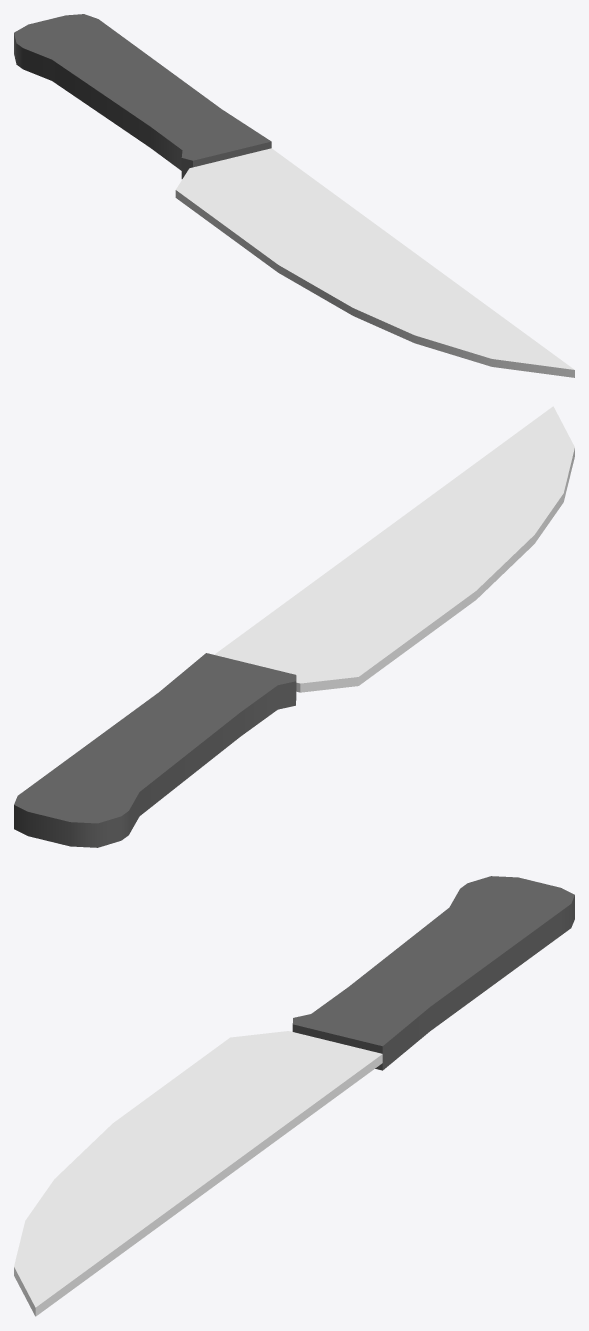
The model's file is Knife_1V.fbx.
The picture shows the model from 3 angles, top to bottom: view 1: azimuth 30°, elevation 25°; view 2: azimuth 150°, elevation 25°; view 3: azimuth 330°, elevation 25°; orthographic projection. The views are drawn at different scales.
Parts seen in each view (by area): view 1: Knife_1V; view 2: Knife_1V; view 3: Knife_1V.
Boxes of the visible parts, x1,y1,x2,y2 form: Knife_1V: (14, 14, 574, 377); Knife_1V: (14, 406, 574, 847); Knife_1V: (14, 876, 574, 1316).
Bounding box in the file's own units: 0.0321 × 0.00574 × 0.2347.
